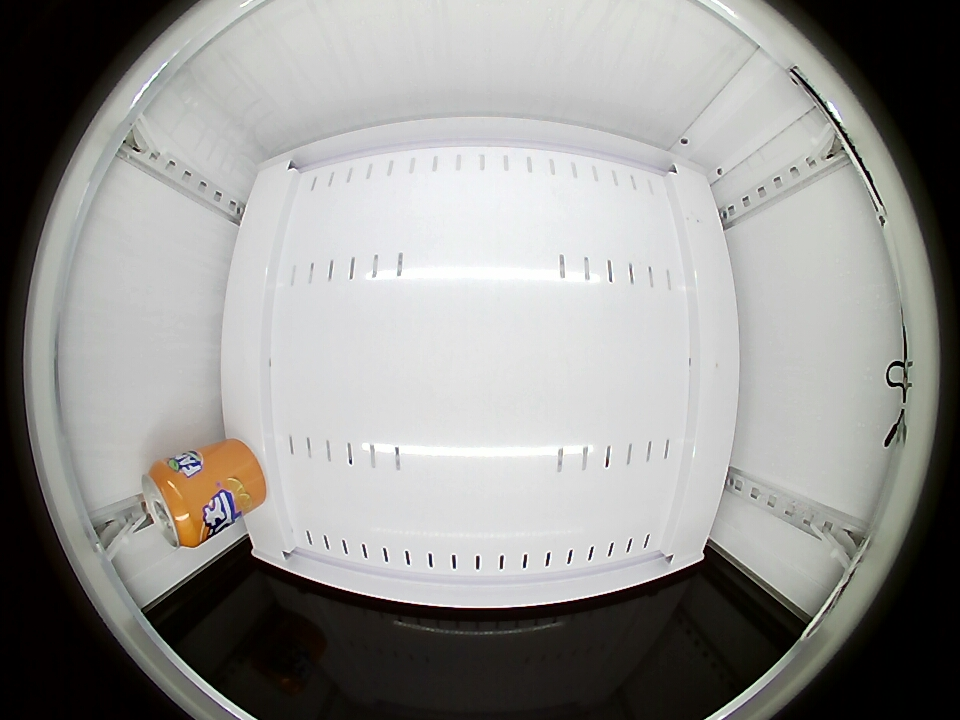fenda: (141, 459, 204, 549)
